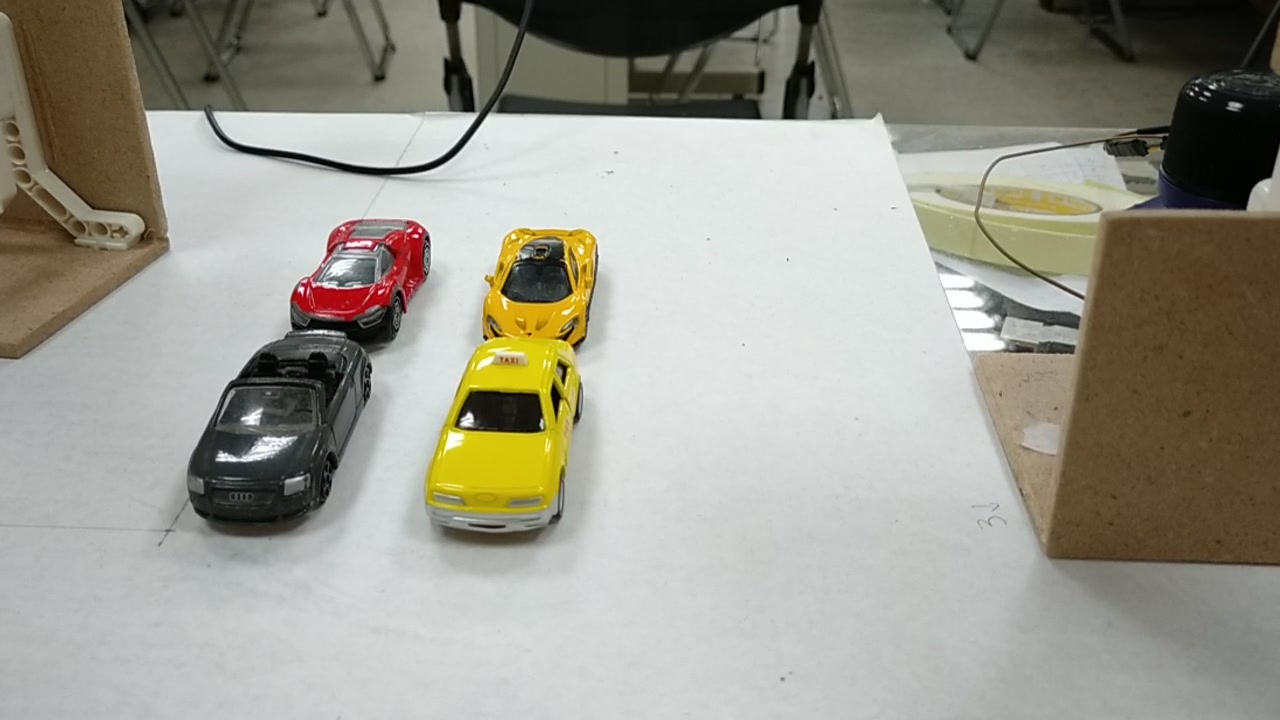car: (181, 335, 367, 524), (425, 336, 584, 528), (284, 217, 435, 328), (479, 222, 595, 340)
